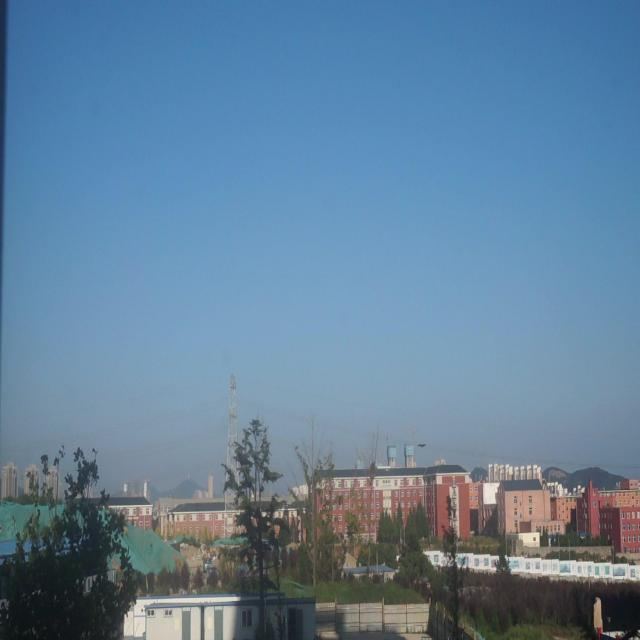UAV: (418, 444, 426, 447)
